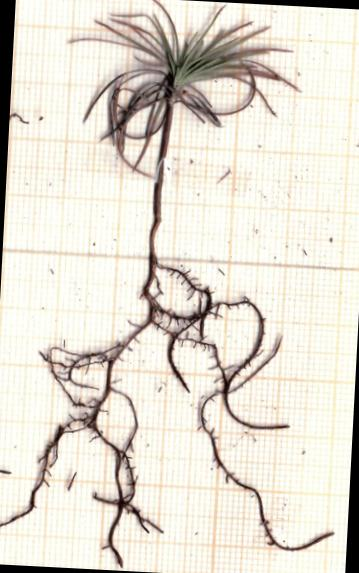flower: (76, 0, 296, 174)
root: (0, 265, 333, 567)
stem: (143, 99, 173, 302)
